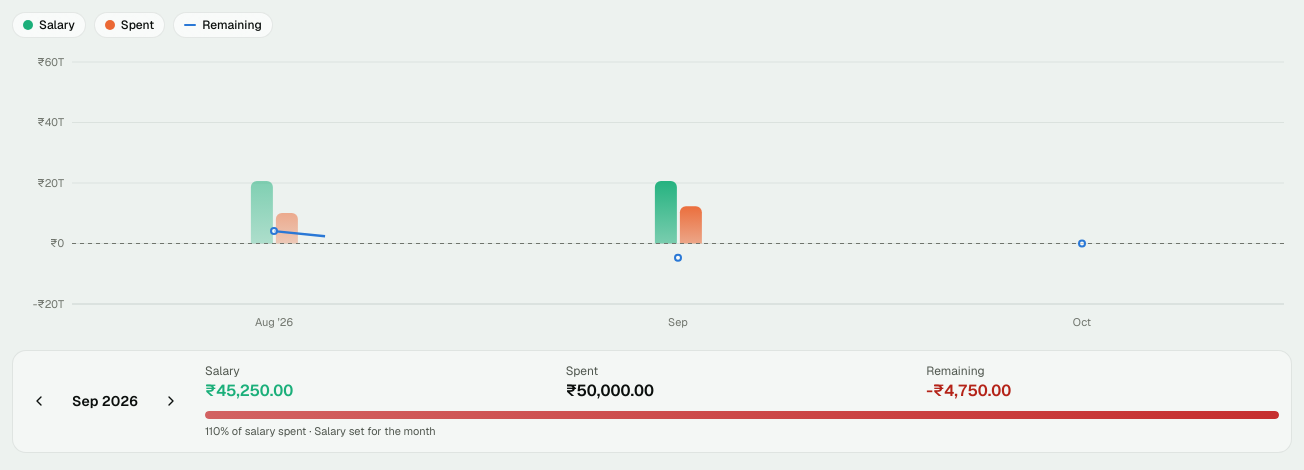
SalaryExpensesChart › summarises the latest month with data and steps between months
expect the text "Sep 2026" is shown: met, box [72, 392, 138, 410]
expect the text "-₹4,750.00" is shown: met, box [926, 380, 1011, 401]
Click the button named "Next month". click: (171, 401)
box: [157, 387, 185, 415]
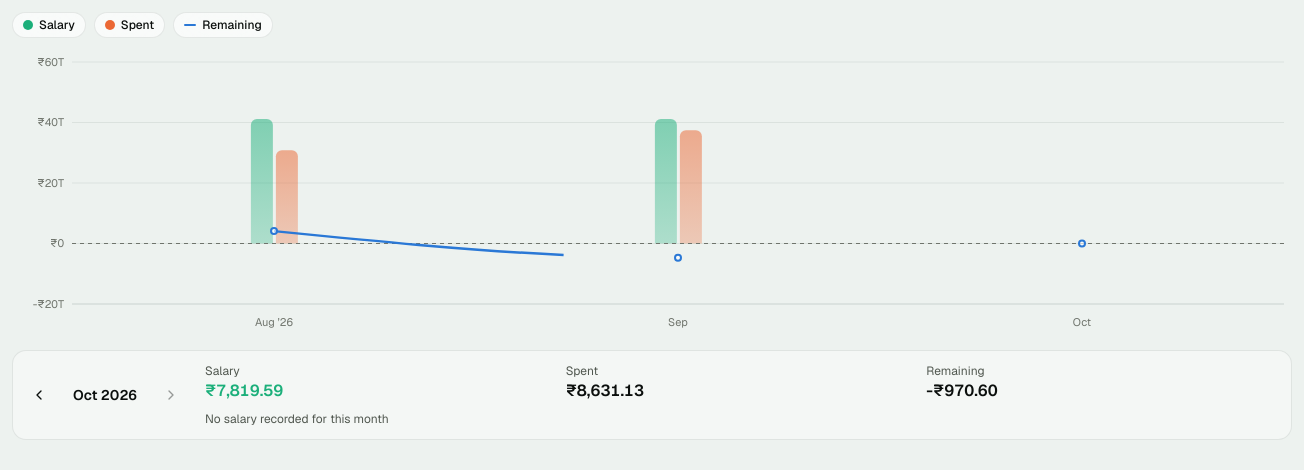
expect the text "Oct 2026" is shown: met, box [73, 386, 137, 404]
expect the text "No salary recorded for this month" is shown: met, box [205, 411, 389, 427]
Click the button named "Previous month". click: (39, 395)
box: [25, 381, 53, 409]
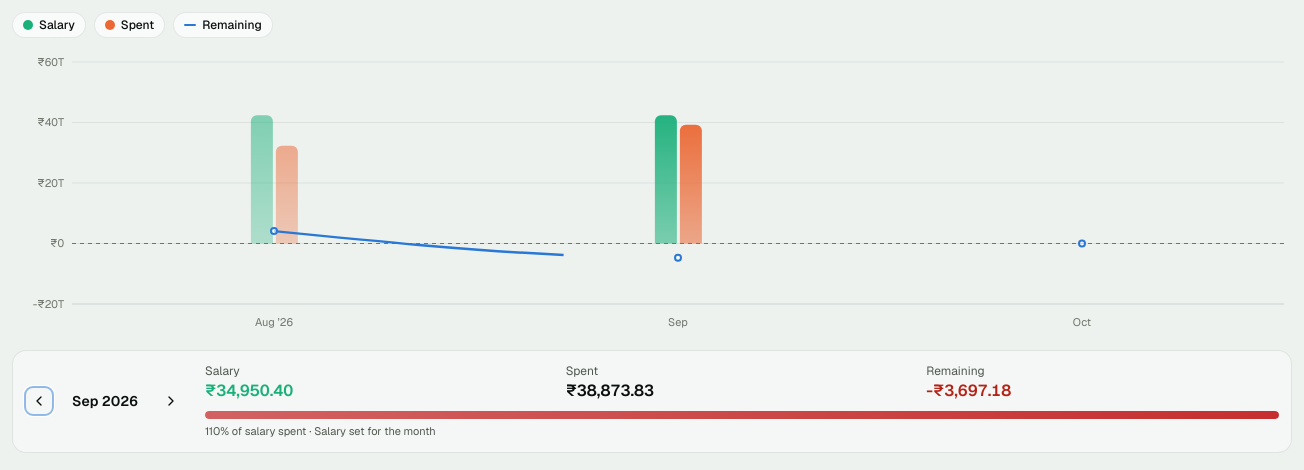
Click the button named "Previous month". click: (39, 401)
box: [25, 387, 53, 415]
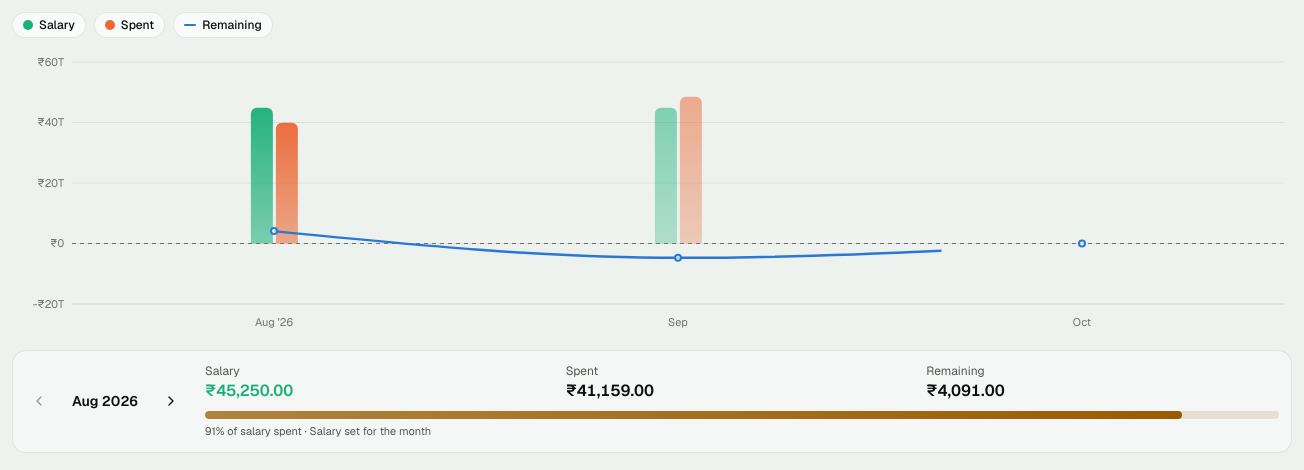
expect the text "Aug 2026" is shown: met, box [72, 392, 138, 410]
